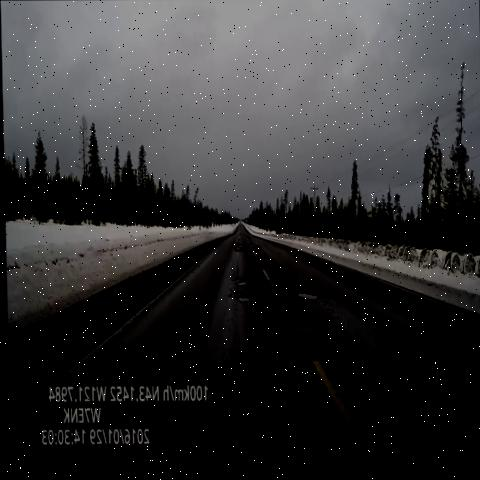pothole: (292, 280, 326, 304), (227, 284, 250, 309), (231, 240, 251, 260), (230, 274, 250, 290)
